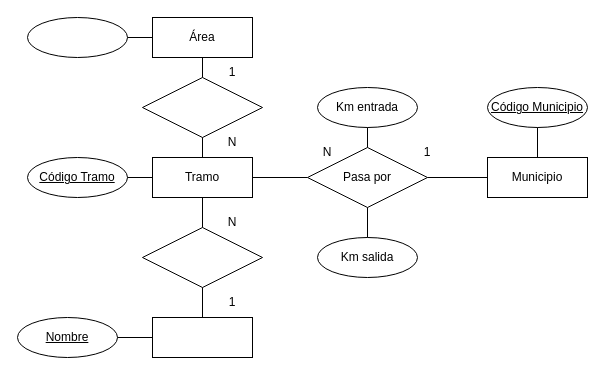
Some shapes in this 605 by 375 pixel diagram are drawn without their labels. The shapes that lost their labels are listed below. From the top down, each one's centre as x and y in pixels, then its label:
At (x=77, y=37): "Número Área".
At (x=202, y=107): "Agrupa".
At (x=202, y=257): "Forma".
At (x=202, y=337): "Carretera".
